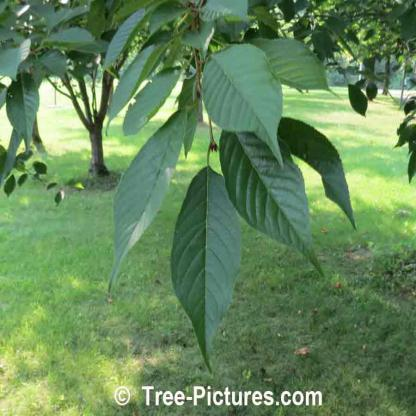cherry leaf: (100, 100, 195, 302), (220, 119, 332, 285), (169, 163, 240, 383), (202, 44, 290, 171), (277, 109, 362, 236), (98, 34, 176, 140), (118, 59, 190, 144), (95, 10, 154, 75), (7, 65, 41, 162)
